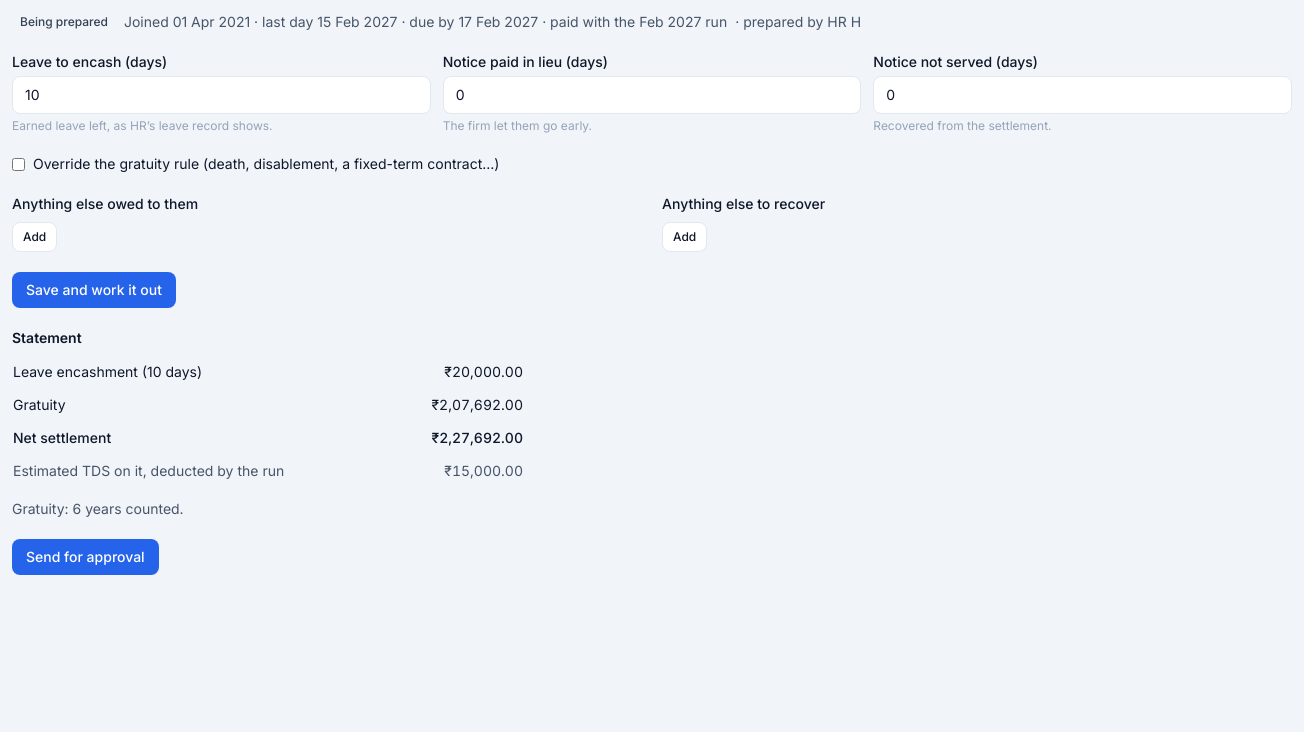
Test: ExitEditor › needs a reason before an override of the gratuity rule is saved
The image size is (1304, 732).
Check: the text "Net settlement" is shown, box [12,422,397,454]
Click the checkbox labelled "Override the gratuity rule". click: coordinates (18, 164)
box: [12,158,25,170]
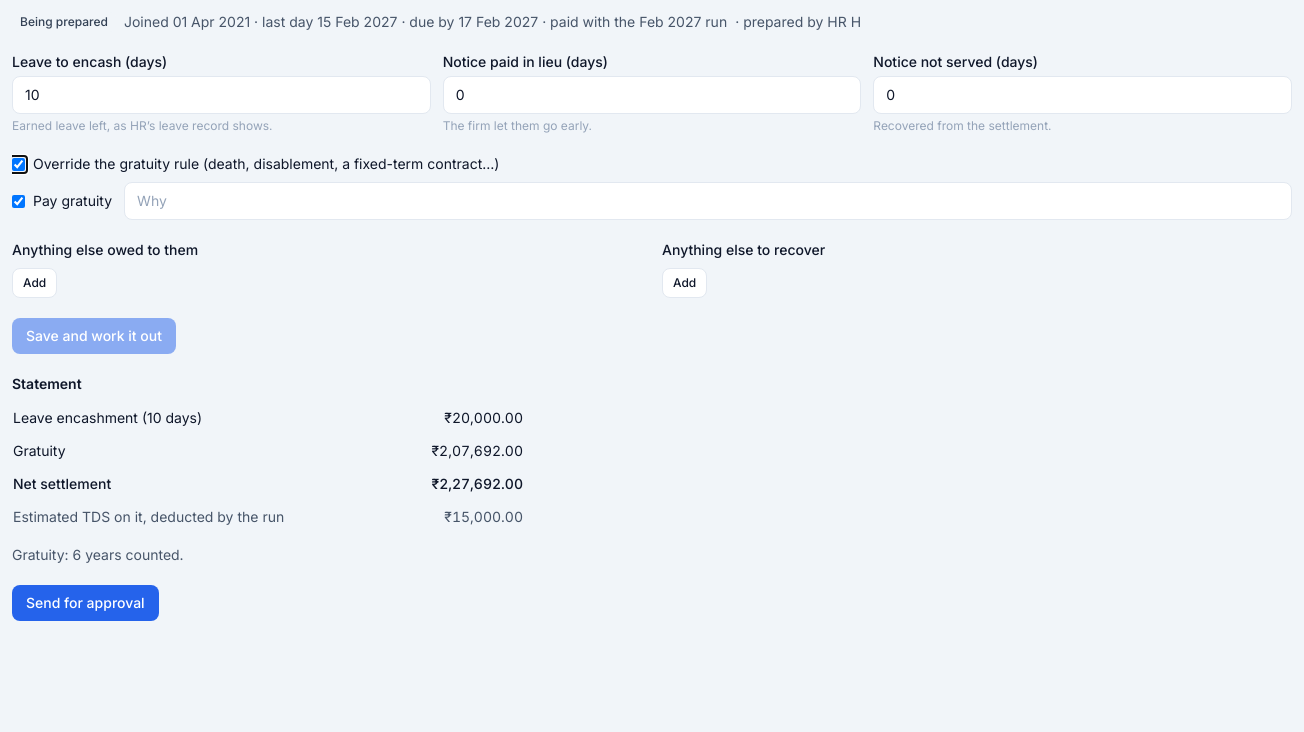
Check: the button "Save and work it out" is disabled, box [12,318,176,354]
Type "Died in service" into the field named "Why the rule is overridden". click: coordinates (708, 201)
box: [124,182,1292,220]
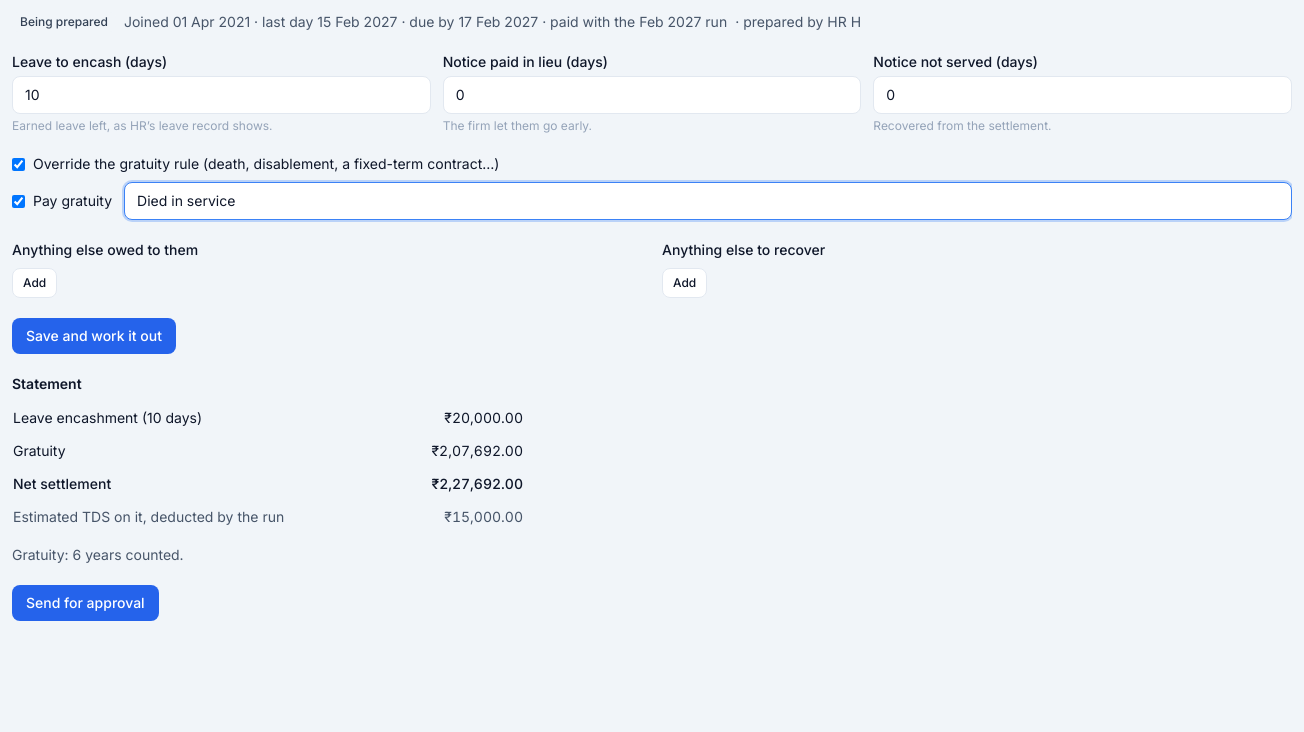
Check: the button "Save and work it out" is enabled, box [12,318,176,354]
